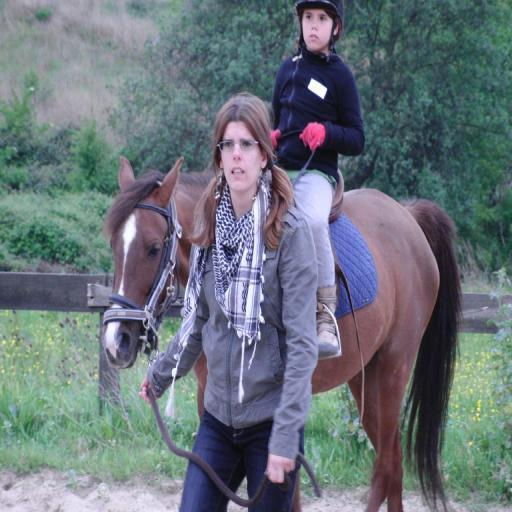horse: (100, 156, 466, 512)
